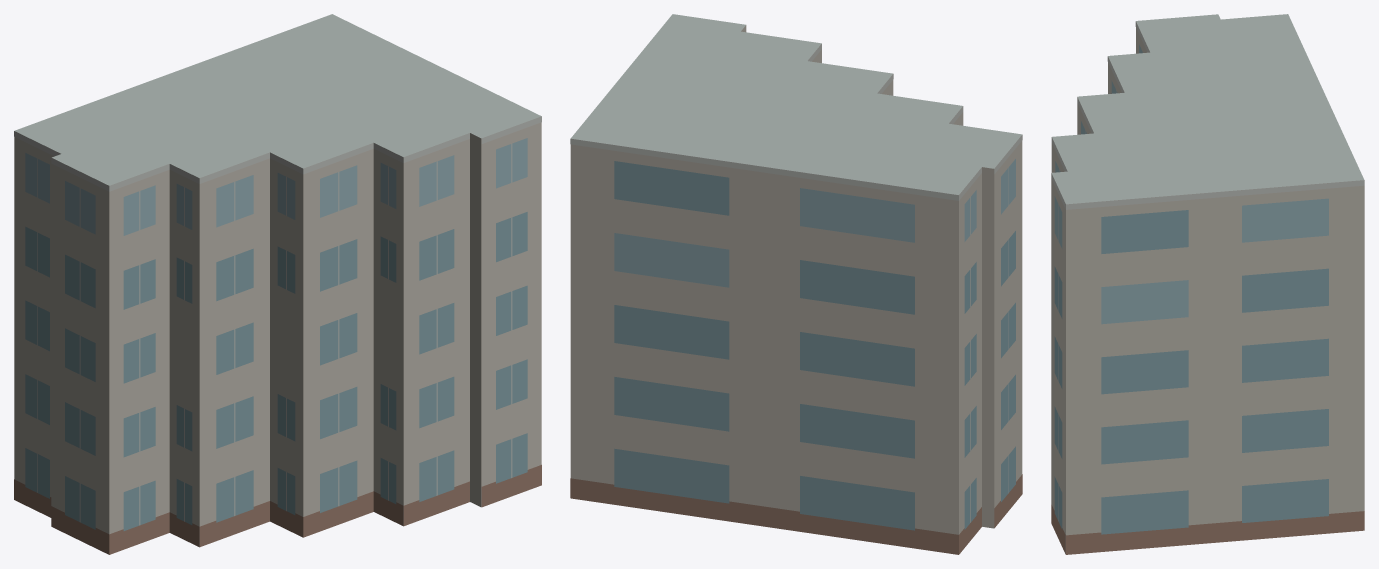
Rendered from survey-upis-32615007.glb.
The picture shows the model from 3 angles, left to right: view 1: azimuth 30°, elevation 25°; view 2: azimuth 150°, elevation 25°; view 3: azimuth 270°, elevation 25°; orthographic projection. The views are drawn at different scales.
Parts seen in each view (by area): view 1: survey-upis-32615007.tmp; view 2: survey-upis-32615007.tmp; view 3: survey-upis-32615007.tmp.
Part boxes in pixels (x1,y1,x2,y2): survey-upis-32615007.tmp: (14,14,541,554); survey-upis-32615007.tmp: (570,14,1022,554); survey-upis-32615007.tmp: (1051,14,1364,554).
Size of the model in its own units: 17.77 by 15.25 by 12.36.
